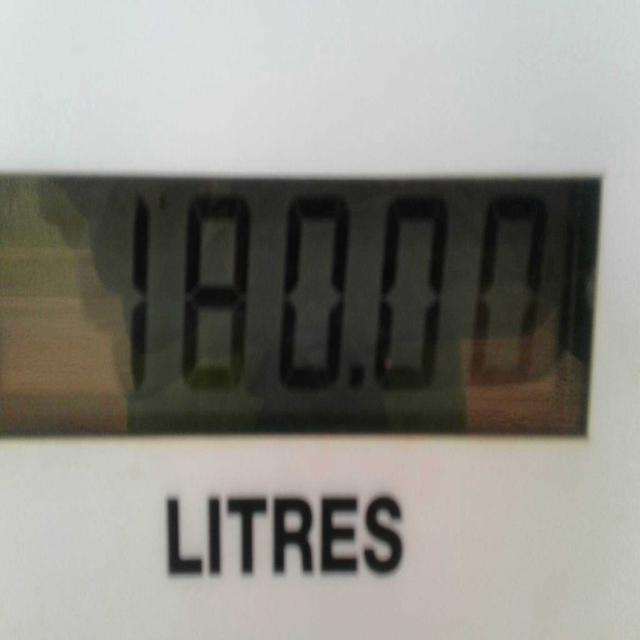.: (344, 358, 372, 424)
0: (468, 192, 555, 402), (273, 192, 349, 384), (380, 195, 441, 396)
1: (122, 197, 162, 389)
8: (180, 194, 252, 406)
